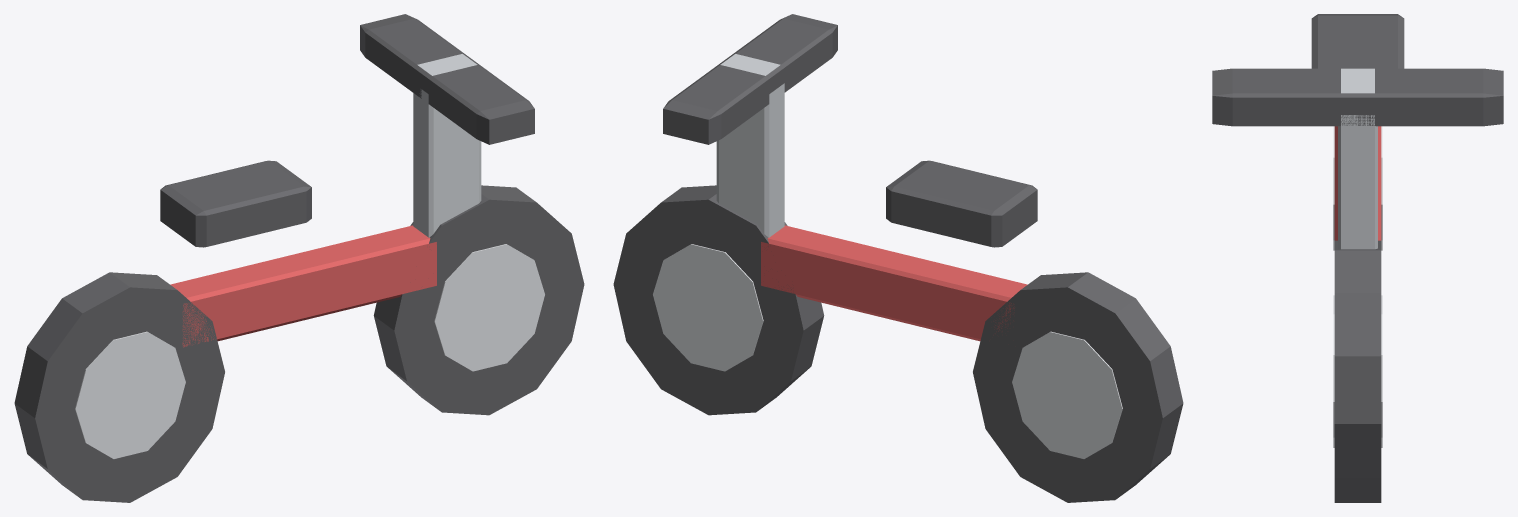
File: b03_long_fork_dirt_motorcycle.glb
3 renders of one model, left to right at view 1: azimuth 30°, elevation 25°; view 2: azimuth 150°, elevation 25°; view 3: azimuth 270°, elevation 25°, orthographic. The views are drawn at different scales.
Visible parts, largest first — view 1: b03_long_fork_dirt_motorcycle; view 2: b03_long_fork_dirt_motorcycle; view 3: b03_long_fork_dirt_motorcycle.
Boxes of the visible parts, x1,y1,x2,y2 form: b03_long_fork_dirt_motorcycle: (14,14,584,502); b03_long_fork_dirt_motorcycle: (613,14,1183,502); b03_long_fork_dirt_motorcycle: (1212,14,1503,502).
Bounding box in the file's own units: 2.23 × 1.36 × 0.91.
